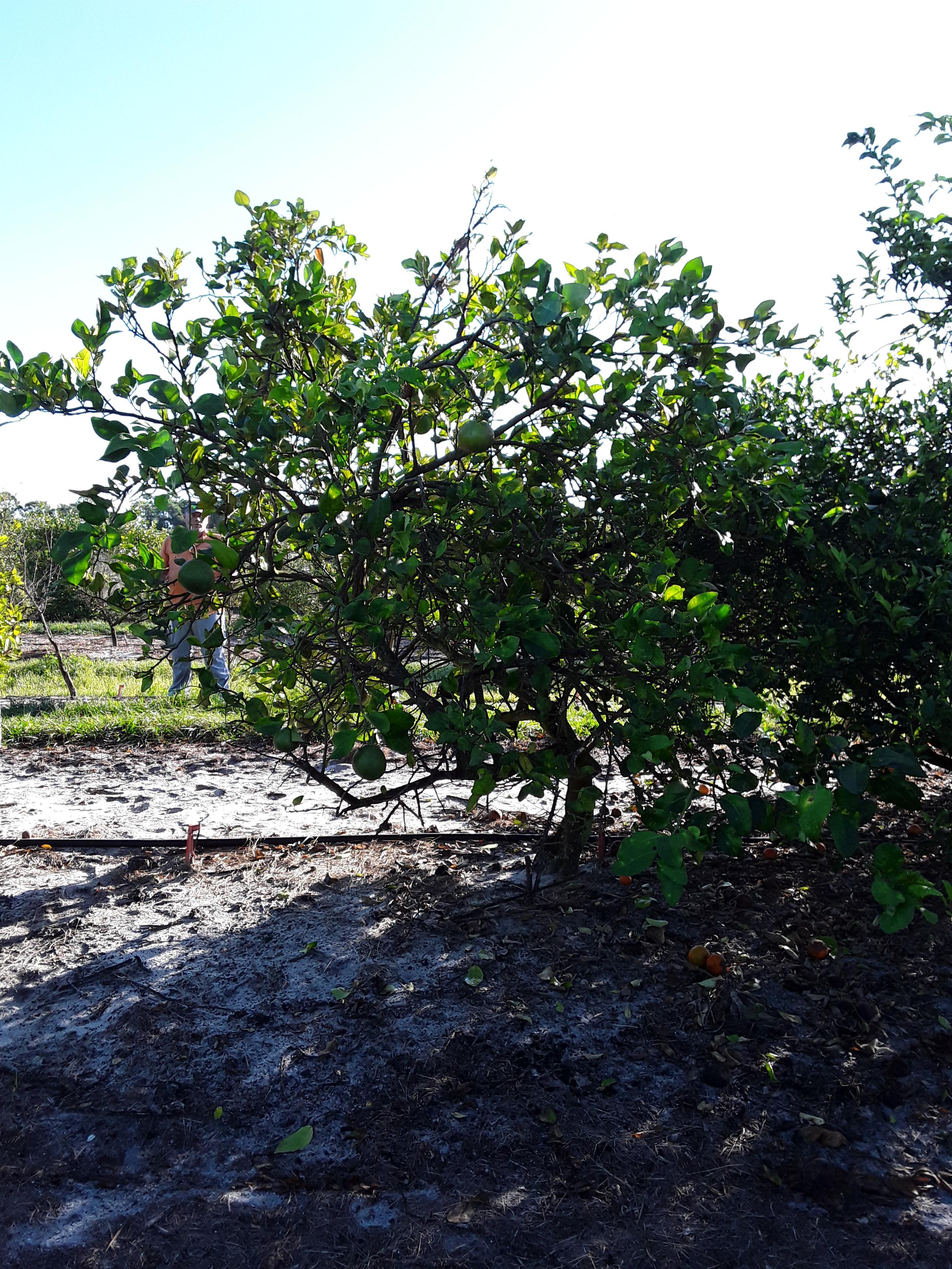fruit_on_ground: (176, 555, 220, 597), (349, 740, 389, 783), (453, 419, 498, 455), (271, 726, 305, 755)
fruit_on_tree: (687, 942, 713, 971), (705, 953, 730, 981), (805, 939, 832, 964), (901, 818, 924, 841), (756, 845, 783, 863), (481, 806, 506, 823), (805, 843, 833, 858), (618, 870, 635, 890), (698, 784, 711, 798)
